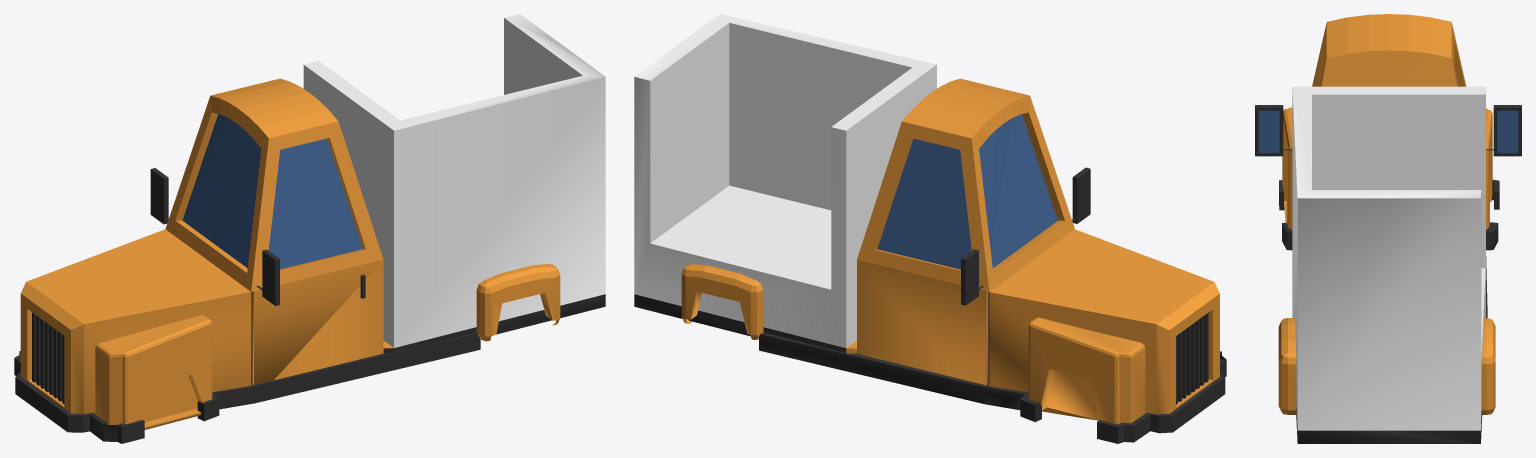
The model's file is Truck.fbx.
3 views of the same model, side by side, from view 1: azimuth 30°, elevation 25°; view 2: azimuth 150°, elevation 25°; view 3: azimuth 270°, elevation 25° (orthographic). The views are drawn at different scales.
Parts seen in each view (by area): view 1: Truck_1359; view 2: Truck_1359; view 3: Truck_1359.
Boxes of the visible parts, x1,y1,x2,y2 form: Truck_1359: (14,14,605,443); Truck_1359: (634,14,1226,443); Truck_1359: (1255,14,1521,443).
Size of the model in its own units: 1.87 by 4.52 by 2.11.
